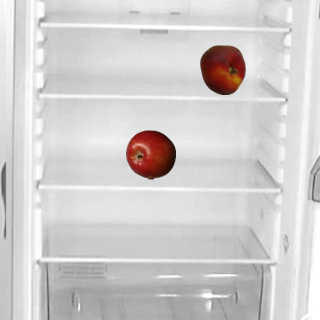Apple Braeburn: (125, 129, 175, 179)
Nectarine Flat: (197, 44, 247, 94)
